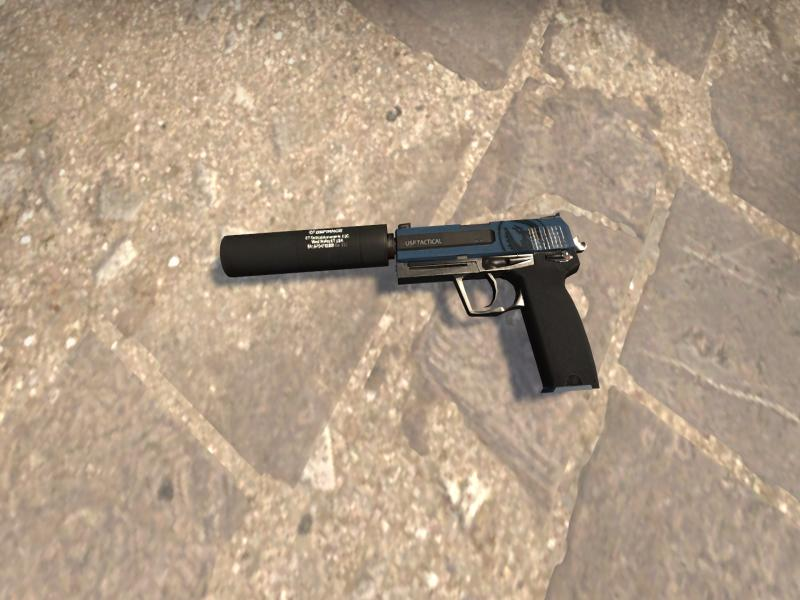USP: (220, 214, 600, 392)
